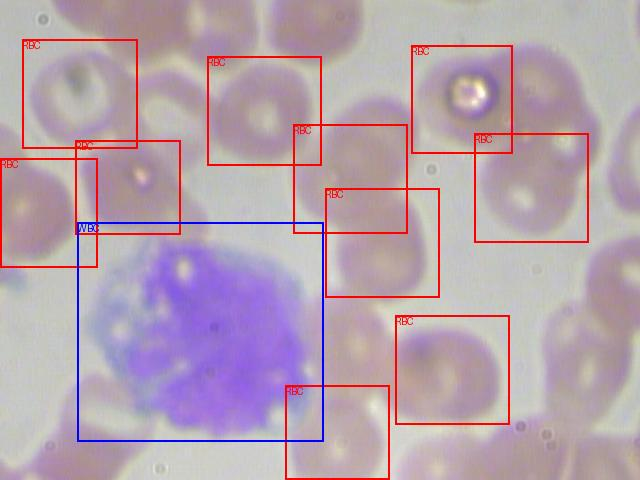RBC: (22, 39, 137, 148), (207, 56, 321, 165), (474, 133, 588, 242), (395, 315, 509, 424), (325, 188, 439, 297), (293, 124, 407, 233), (411, 45, 512, 153), (0, 158, 97, 267), (75, 140, 180, 234), (285, 385, 389, 479)
WBC: (77, 222, 323, 441)
